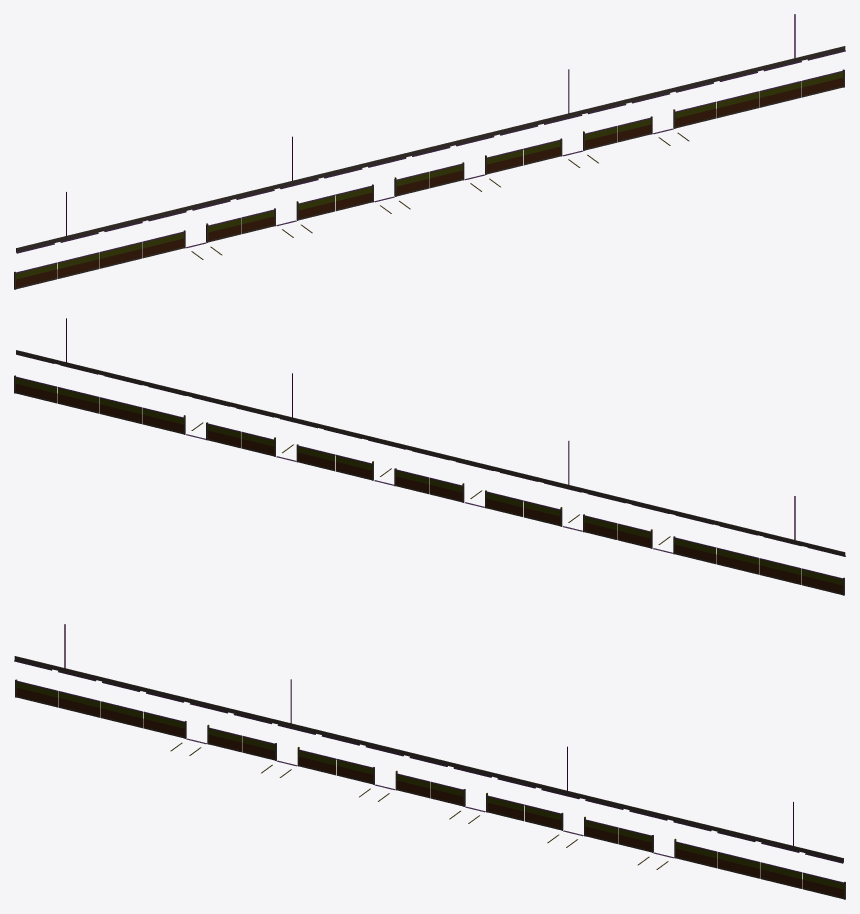
Rendered from monorail_screens_n.glb.
3 renders of one model, top to bottom at view 1: azimuth 30°, elevation 25°; view 2: azimuth 150°, elevation 25°; view 3: azimuth 330°, elevation 25°, orthographic.
Visible parts, largest first — view 1: monorail_screens_n; view 2: monorail_screens_n; view 3: monorail_screens_n.
Part boxes in pixels (left/top/right/bottom): monorail_screens_n: left=14, top=14, right=845, bottom=289; monorail_screens_n: left=14, top=318, right=845, bottom=595; monorail_screens_n: left=14, top=624, right=845, bottom=899.
Bounding box in the file's own units: 66.1 × 6.55 × 2.39.
